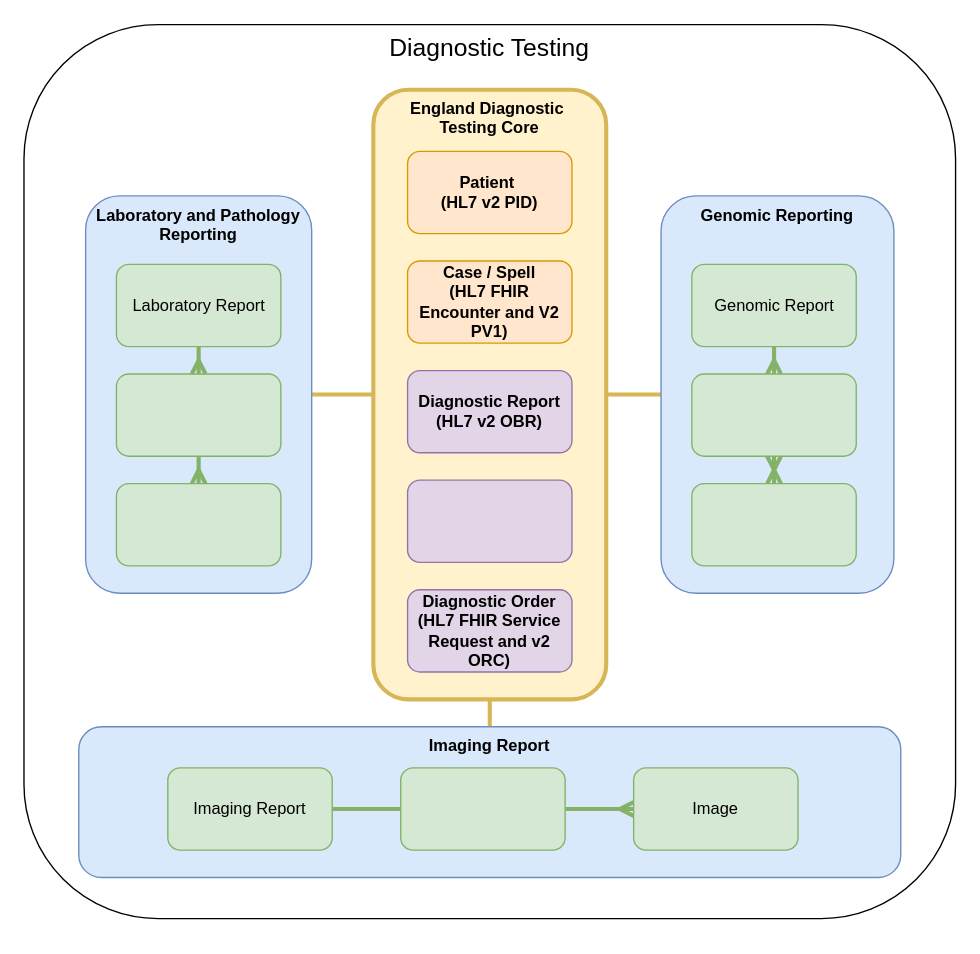
Image size: 980x954. Some labels were removed from this diagram. Here are the shapes that lost their labels. From the top down, the centre of each, then its label:
At (x=198, y=414): "Panel".
At (x=773, y=414): "Variant".
At (x=198, y=524): "Observation".
At (x=489, y=520): "Specimen (HL7 v2 SPM)".
At (x=773, y=524): "Diagnostic Implication".
At (x=482, y=808): "Imaging Study".
